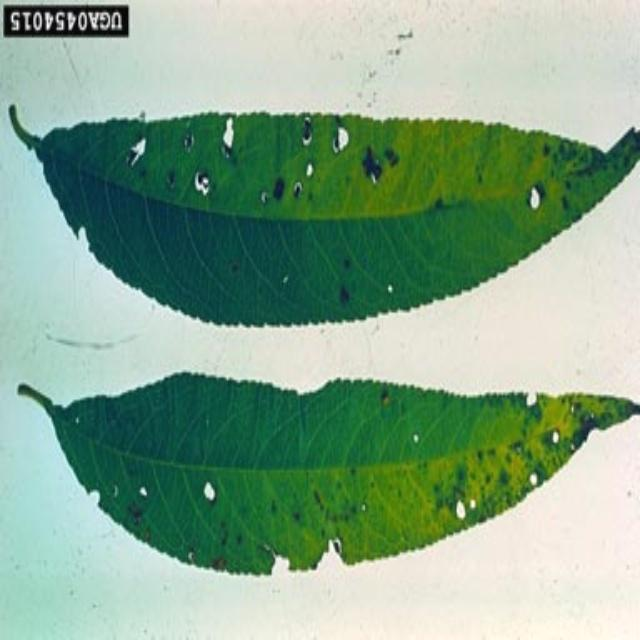shot_hole: (0, 89, 564, 341), (64, 391, 623, 624)
